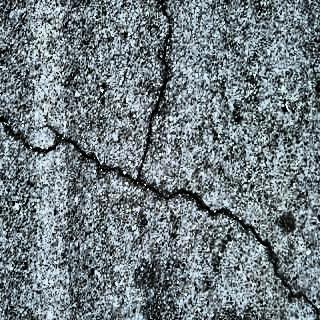crack: (136, 178, 272, 249), (0, 114, 137, 182), (138, 2, 175, 182), (268, 243, 320, 315)
